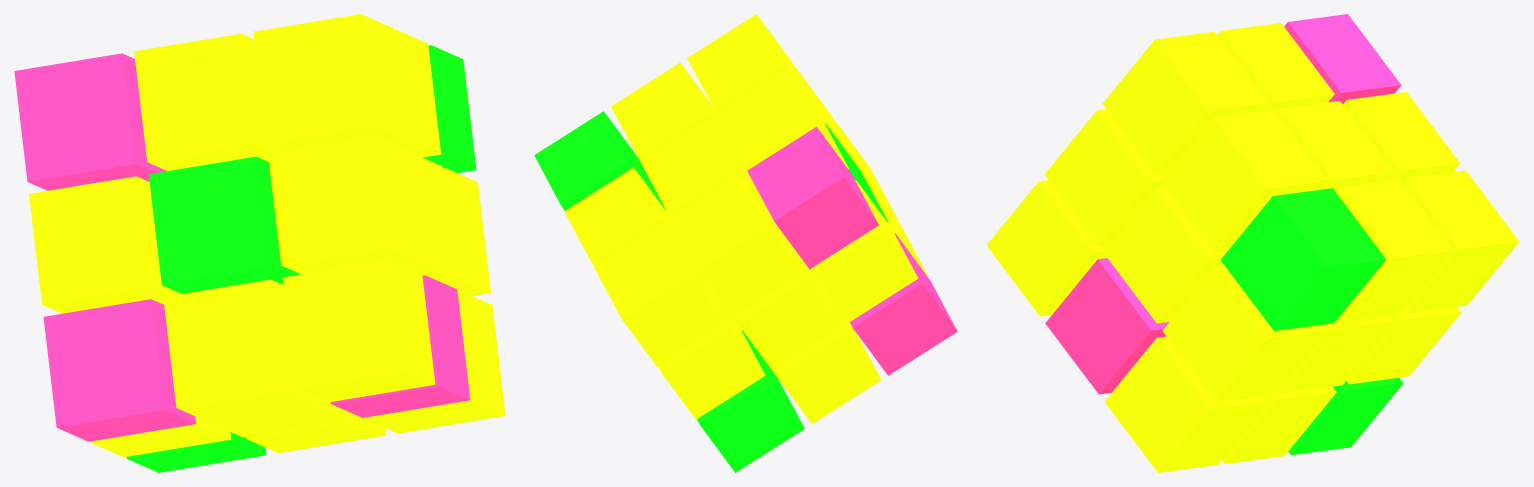
Rendered from tictactoe.glb.
The picture shows the model from 3 angles, left to right: view 1: azimuth 30°, elevation 25°; view 2: azimuth 150°, elevation 25°; view 3: azimuth 270°, elevation 25°; orthographic projection. The views are drawn at different scales.
Visible parts, largest first — view 1: Cube.026; view 2: Cube.026; view 3: Cube.026.
Part boxes in pixels (x1=…): Cube.026: x1=14, y1=14, x2=505, y2=472; Cube.026: x1=534, y1=14, x2=957, y2=472; Cube.026: x1=986, y1=14, x2=1519, y2=472.
Bounding box in the file's own units: 0.2518 × 0.2549 × 0.2777.
